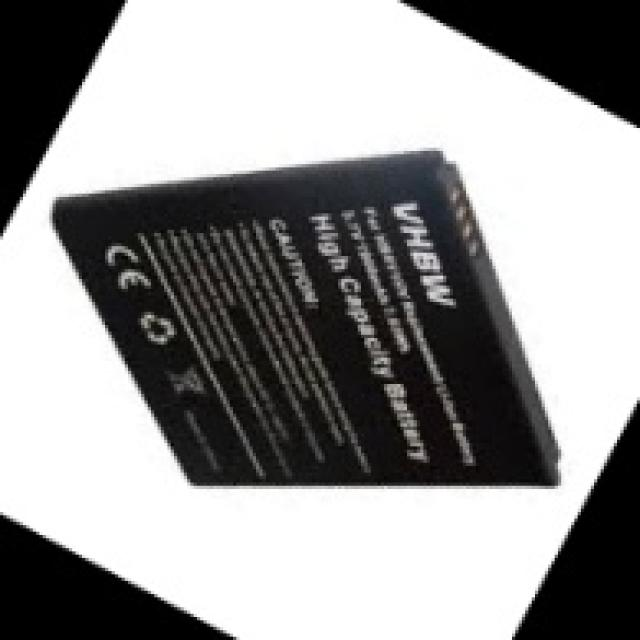elektronik: (56, 155, 558, 482)
